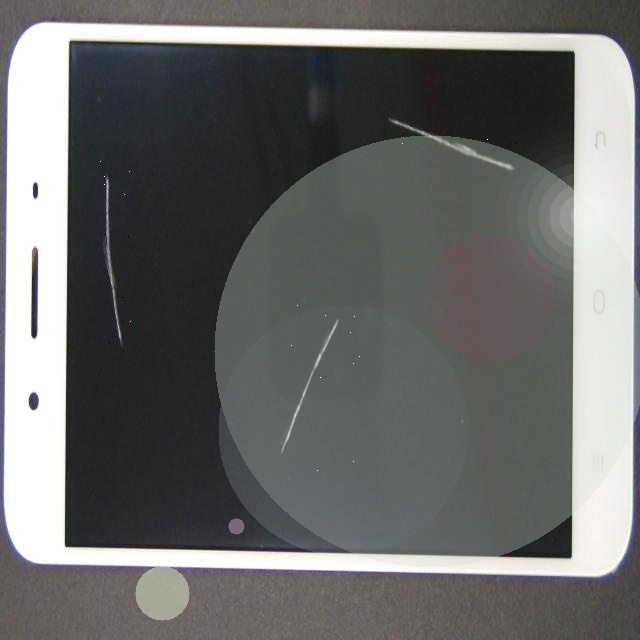scratch: (115, 227, 408, 640), (126, 36, 640, 217), (64, 68, 162, 228)
